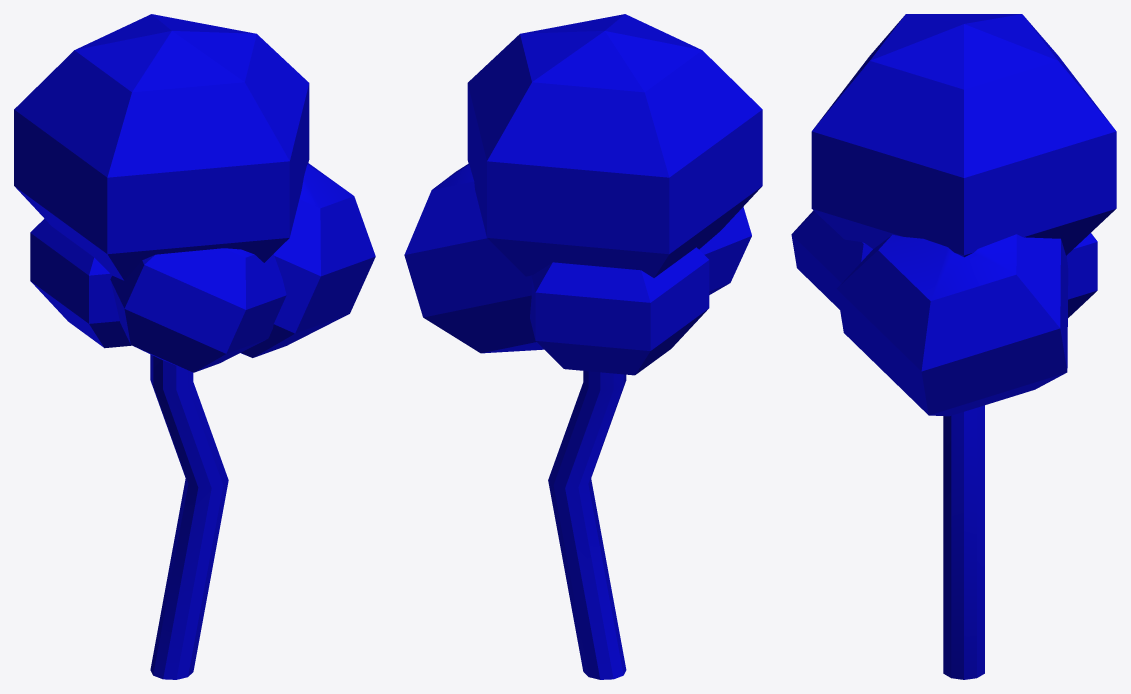
Rendered from PH_Three_1_NewUv.fbx.
The picture shows the model from 3 angles, left to right: view 1: azimuth 30°, elevation 25°; view 2: azimuth 150°, elevation 25°; view 3: azimuth 270°, elevation 25°; orthographic projection.
Parts seen in each view (by area): view 1: pCylinder3; view 2: pCylinder3; view 3: pCylinder3.
Part boxes in pixels (x1,y1,x2,y2): pCylinder3: (14,14,375,679); pCylinder3: (404,14,762,679); pCylinder3: (791,14,1116,679).
Size of the model in its own units: 1.57 by 3.26 by 1.49.
